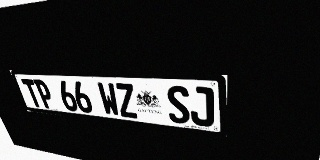6: (70, 81, 94, 114), (56, 80, 79, 112)
J: (189, 86, 214, 127)
P: (33, 79, 56, 109)
S: (165, 85, 191, 125)
T: (21, 79, 44, 108)
W: (96, 82, 121, 117)
Z: (114, 83, 139, 119)
